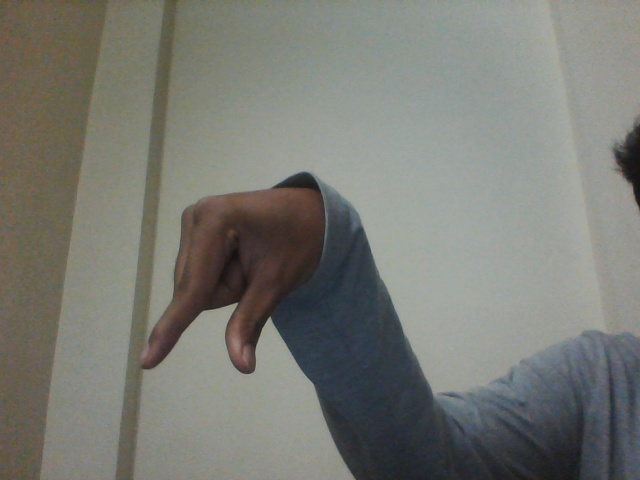q: (130, 181, 300, 388)
